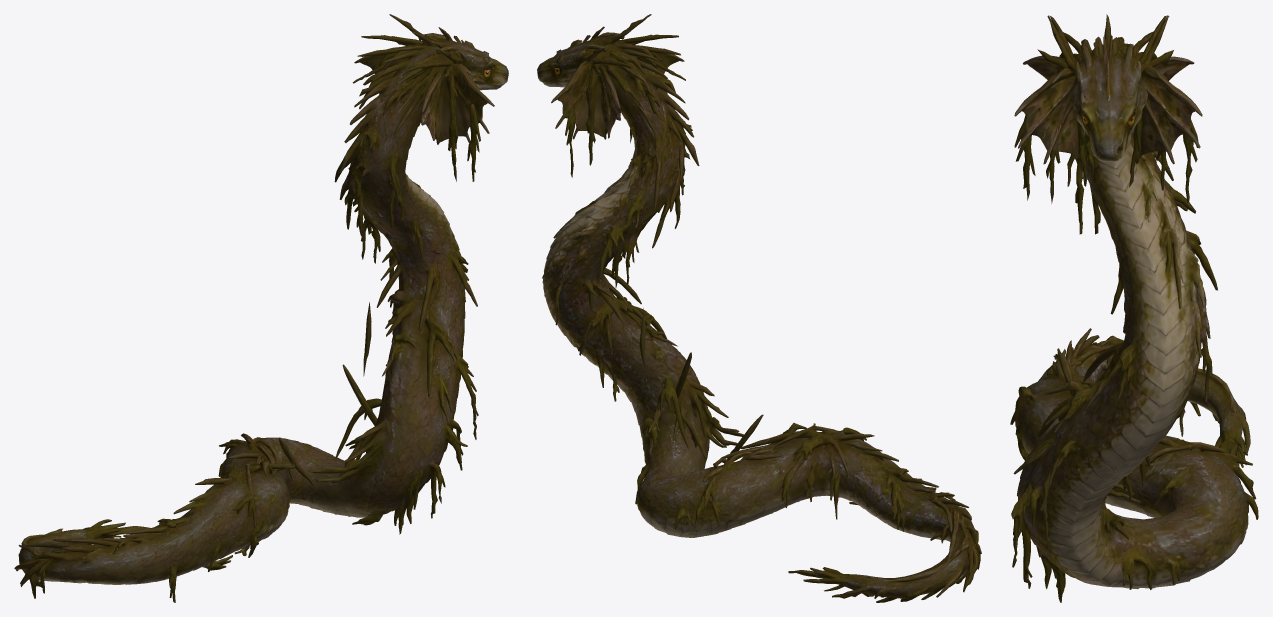
File: MarshSerpent-tripo.glb
3 views of the same model, side by side, from view 1: azimuth 30°, elevation 25°; view 2: azimuth 150°, elevation 25°; view 3: azimuth 270°, elevation 25° (orthographic). The views are drawn at different scales.
Parts seen in each view (by area): view 1: tripo_node_6a23a1ea-d931-400b-a63d-d041c5ae6a83; view 2: tripo_node_6a23a1ea-d931-400b-a63d-d041c5ae6a83; view 3: tripo_node_6a23a1ea-d931-400b-a63d-d041c5ae6a83.
Part boxes in pixels (box(x1,y1,x2,y2)): tripo_node_6a23a1ea-d931-400b-a63d-d041c5ae6a83: box(14, 14, 508, 602); tripo_node_6a23a1ea-d931-400b-a63d-d041c5ae6a83: box(537, 14, 981, 602); tripo_node_6a23a1ea-d931-400b-a63d-d041c5ae6a83: box(1010, 14, 1258, 602).
Bounding box in the file's own units: 1 × 0.9888 × 0.3601.
Materials: 1 (1 with a texture image).
